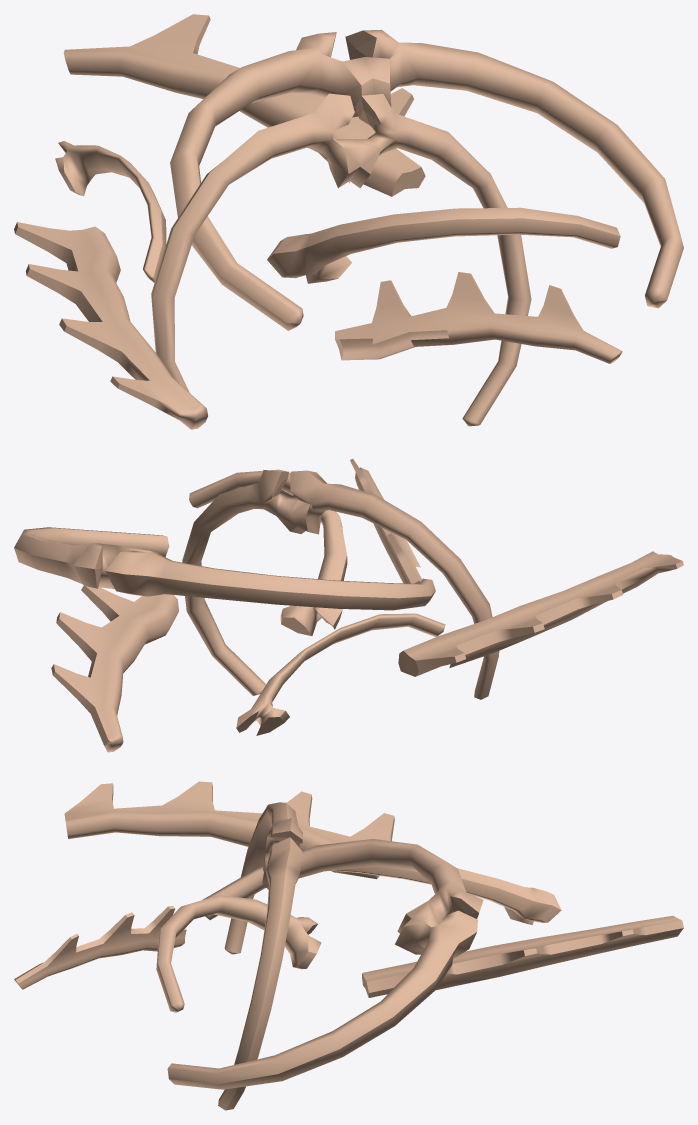
File: Bone_Pile.fbx
The picture shows the model from 3 angles, top to bottom: view 1: azimuth 30°, elevation 25°; view 2: azimuth 150°, elevation 25°; view 3: azimuth 270°, elevation 25°; orthographic projection. The views are drawn at different scales.
Parts seen in each view (by area): view 1: Bone_Pile; view 2: Bone_Pile; view 3: Bone_Pile.
Boxes of the visible parts, left/top/right/bottom form: Bone_Pile: left=14, top=14, right=683, bottom=429; Bone_Pile: left=14, top=458, right=683, bottom=752; Bone_Pile: left=14, top=781, right=683, bottom=1110.
Bounding box in the file's own units: 298 × 140 × 336.
